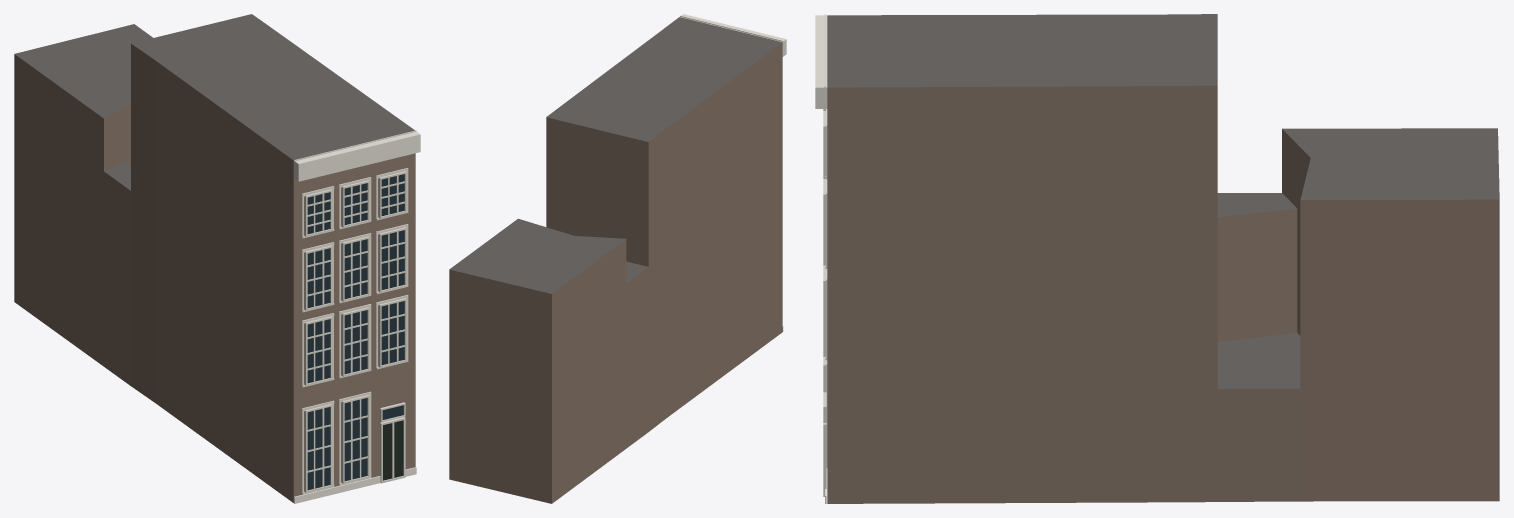
3 views of the same model, side by side, from view 1: azimuth 30°, elevation 25°; view 2: azimuth 150°, elevation 25°; view 3: azimuth 270°, elevation 25° (orthographic). The views are drawn at different scales.
Parts seen in each view (by area): view 1: spec-0363100012176545; view 2: spec-0363100012176545; view 3: spec-0363100012176545.
Boxes of the visible parts, box(x1,y1,x2,y2) form: spec-0363100012176545: box(14, 14, 420, 503); spec-0363100012176545: box(449, 14, 786, 503); spec-0363100012176545: box(815, 14, 1499, 503).
Bounding box in the file's own units: 5.94 × 15.55 × 23.1.
